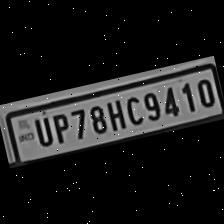0: (191, 74, 217, 110)
1: (175, 80, 198, 114)
4: (156, 82, 182, 120)
7: (64, 104, 90, 142)
8: (84, 100, 110, 136)
9: (138, 87, 164, 123)
C: (120, 91, 146, 127)
H: (102, 96, 128, 133)
P: (46, 108, 74, 146)
U: (28, 113, 55, 150)
